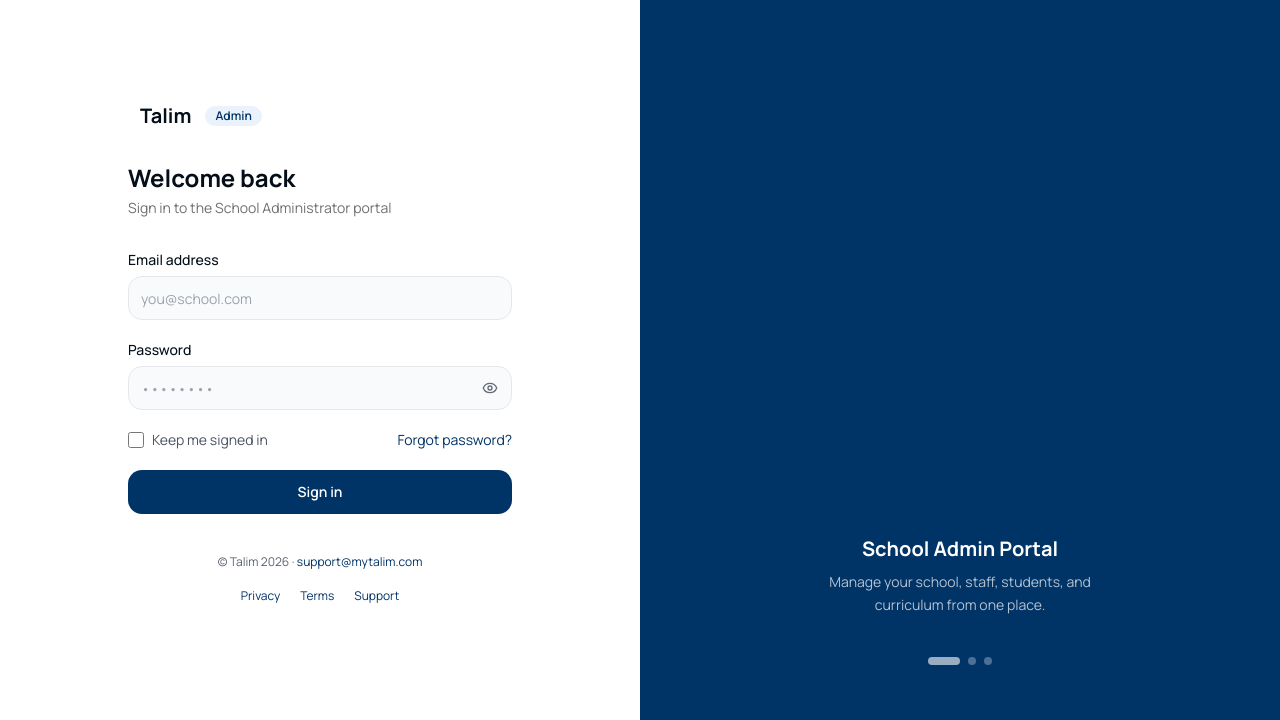
Test: sign-in › explains a refusal: Incorrect email or password
This screenshot has width=1280, height=720.
Type "x@school.test" into the field labelled "Email address". click: x=320, y=298
box: [128,276,512,320]
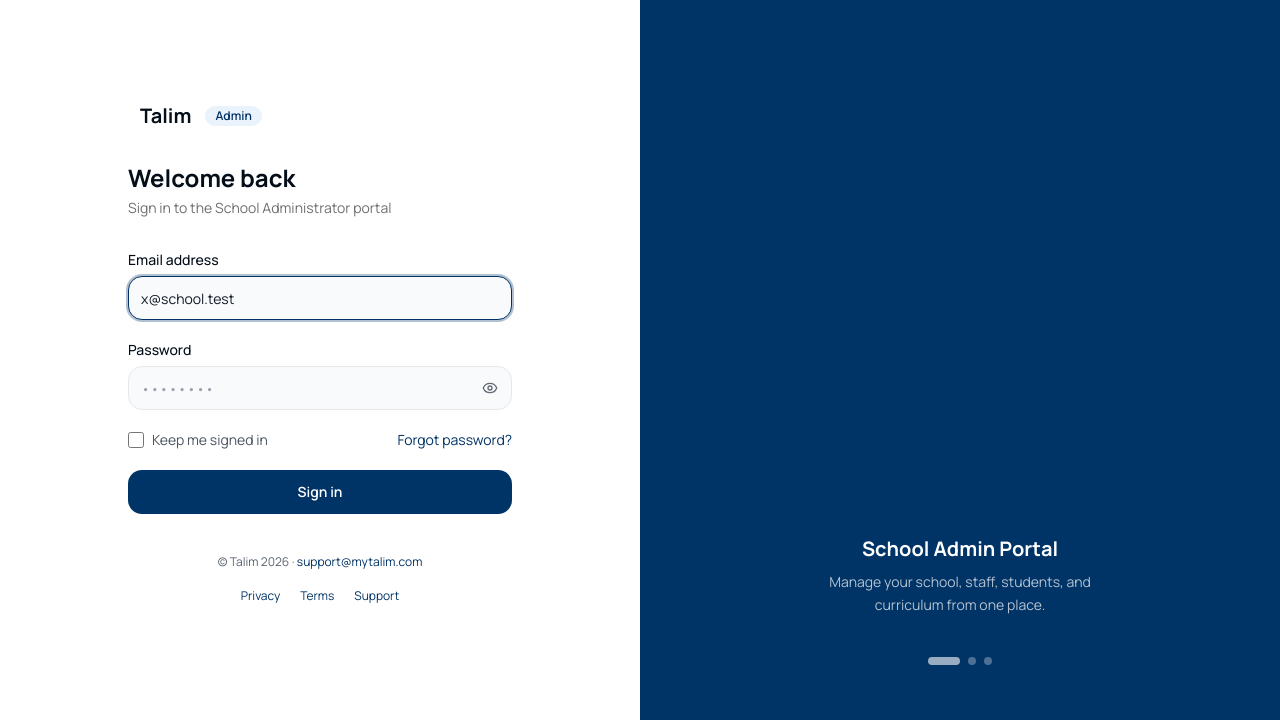
Type "nope" into the password field labelled "Password". click: x=320, y=388
box: [128,366,512,410]
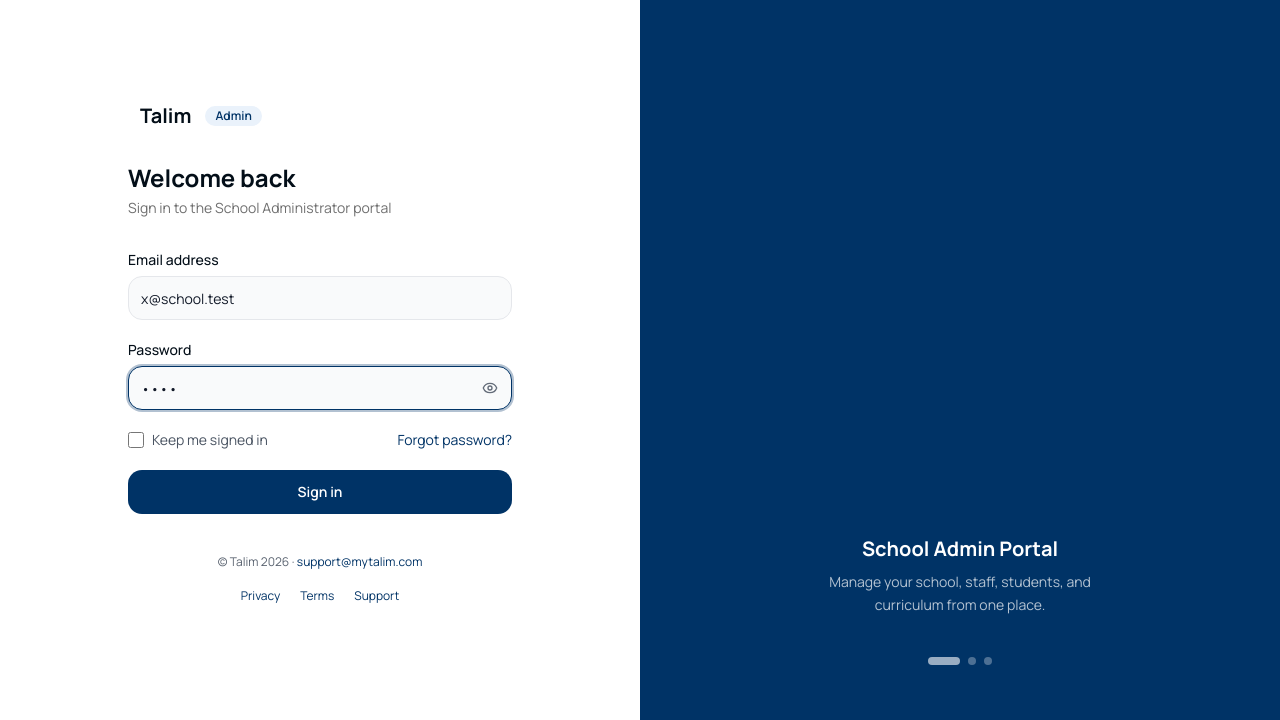
Click the button "Sign in". click: x=320, y=492
box: [128,470,512,514]
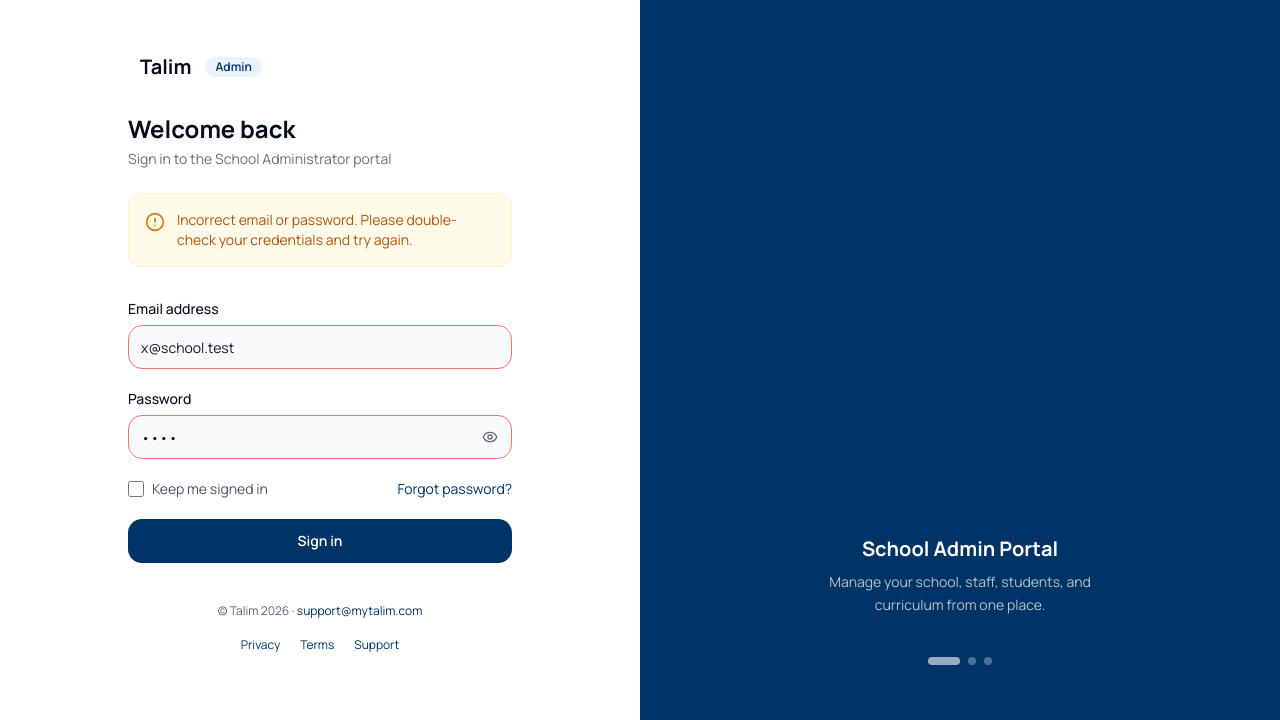
Check: the message shows "Incorrect email or password. Please double-check", box [177,210,457,249]
